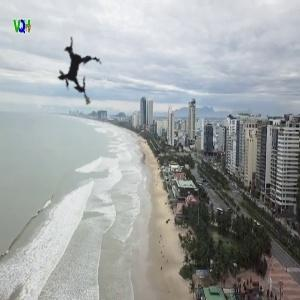drone: (27, 20, 130, 123)
